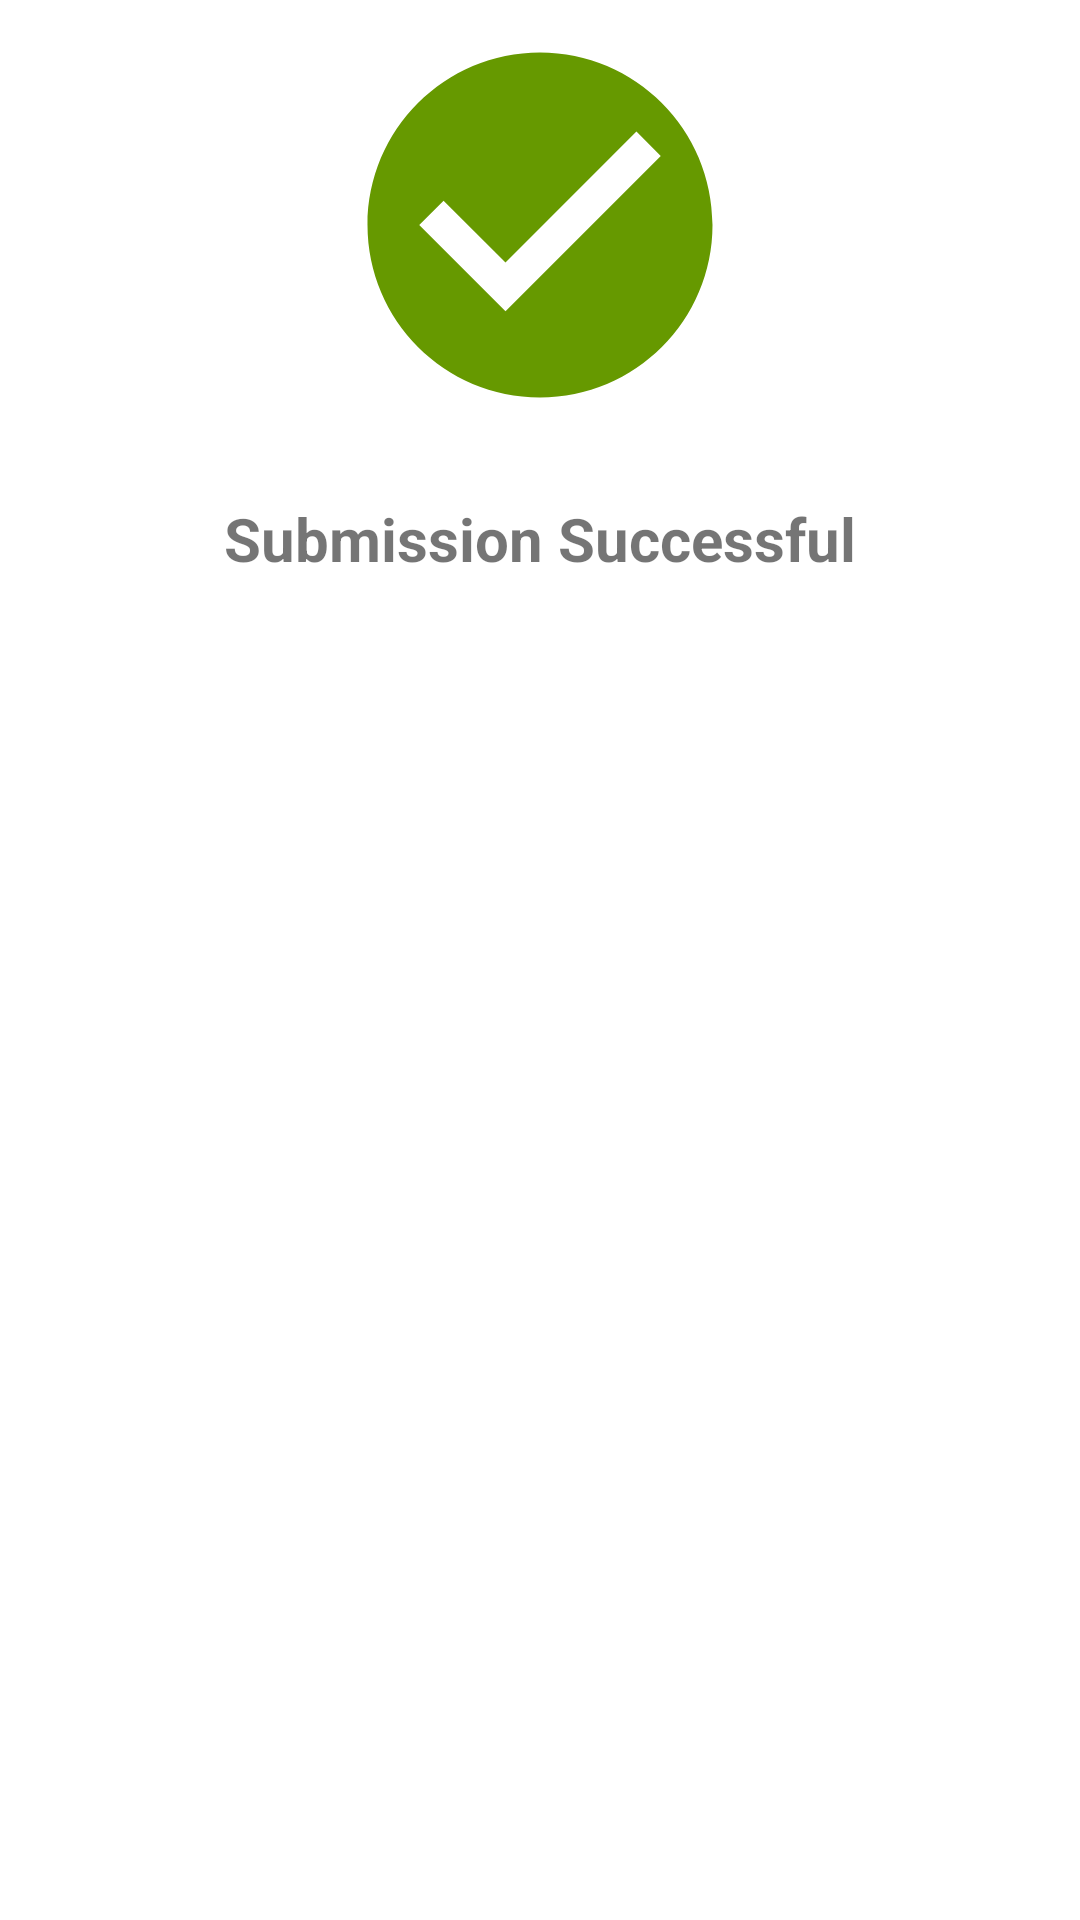

Locate icon controls on the screen. Image size 1080×1920, boxes as (x1, y1, x2, y2).
check: (367, 52, 713, 398)
